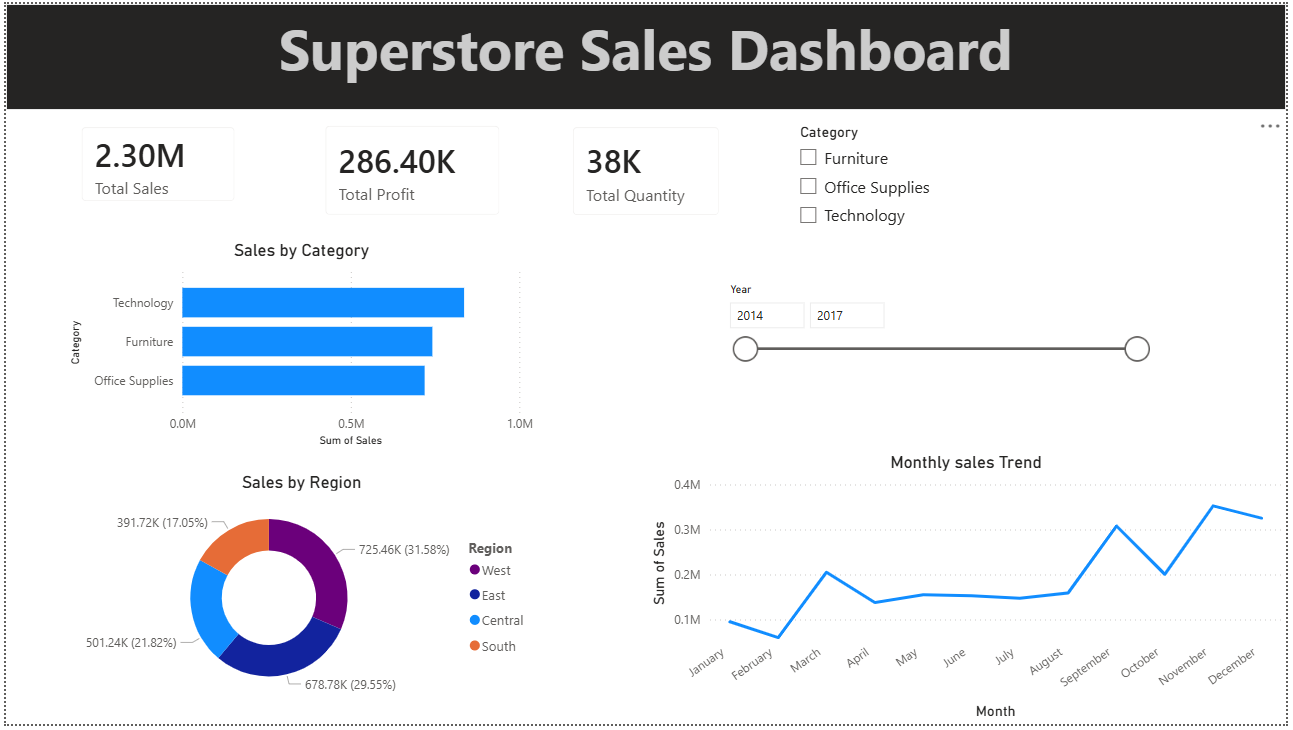

What the dashboard file says about the page in this screenshot:
{"tool":"powerbi","page":{"name":"Page 1","canvas":[1280,720],"ordinal":0},"visuals":[{"type":"cardVisual","fields":{"Data":["Sum(Sample - Superstore cleaned.Sales)"]},"box":[58.8,106.2,187.5,108.8],"z":0},{"type":"cardVisual","fields":{"Data":["Sum(Sample - Superstore cleaned.Profit)"]},"box":[302.5,105,208.8,123.8],"z":1000},{"type":"cardVisual","fields":{"Data":["Sum(Sample - Superstore cleaned.Quantity)"]},"box":[550,106.2,180,122.5],"z":2000},{"type":"clusteredBarChart","title":"Sales by Category","fields":{"Category":["Sample - Superstore cleaned.Category"],"Y":["Sum(Sample - Superstore cleaned.Sales)"]},"box":[58.8,236.2,473.8,211.2],"z":3000},{"type":"textbox","box":[0,0,1279.4,105.9],"z":4000},{"type":"lineChart","title":"Monthly sales Trend","fields":{"Category":["Sample - Superstore cleaned.Order Date.Variation.Date Hierarchy.Year","Sample - Superstore cleaned.Order Date.Variation.Date Hierarchy.Quarter","Sample - Superstore cleaned.Order Date.Variation.Date Hierarchy.Month","Sample - Superstore cleaned.Order Date.Variation.Date Hierarchy.Day"],"Y":["Sum(Sample - Superstore cleaned.Sales)"]},"box":[640,447.5,640,272.5],"z":5000},{"type":"donutChart","title":"Sales by Region","fields":{"Category":["Sample - Superstore cleaned.Region"],"Y":["Sum(Sample - Superstore cleaned.Sales)"]},"box":[58.8,467.5,473.8,233.8],"z":6000},{"type":"slicer","fields":{"Values":["Sample - Superstore cleaned.Category"]},"box":[1023.8,118.8,242.5,148.8],"z":7000},{"type":"slicer","fields":{"Values":["Sample - Superstore cleaned.Order Date.Variation.Date Hierarchy.Year"]},"box":[711.2,273.8,441.2,136.2],"z":8000},{"type":"cardVisual","fields":{"Data":["Sample - Superstore cleaned.Prifit_Margin"]},"box":[766.2,106.2,166.2,108.8],"z":8001}]}

Visuals, with their boxes in screenshot pixels (x1, y1, x2, y2), scaled from the page's 1280x720 canvas onto the 1293x730 screenshot:
cardVisual - Sum(Sample - Superstore cleaned.Sales): 59,108,249,218
cardVisual - Sum(Sample - Superstore cleaned.Profit): 306,106,516,232
cardVisual - Sum(Sample - Superstore cleaned.Quantity): 556,108,737,232
"Sales by Category" clusteredBarChart: 59,239,538,454
textbox: 0,0,1292,107
"Monthly sales Trend" lineChart: 646,454,1292,729
"Sales by Region" donutChart: 59,474,538,711
slicer - Sample - Superstore cleaned.Category: 1034,120,1279,271
slicer - Sample - Superstore cleaned.Order Date.Variation.Date Hierarchy.Year: 718,278,1164,416
cardVisual - Sample - Superstore cleaned.Prifit_Margin: 774,108,942,218
